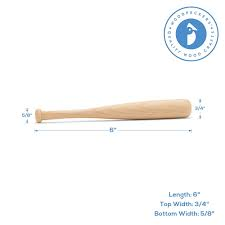baseball bat: (35, 99, 193, 122)
